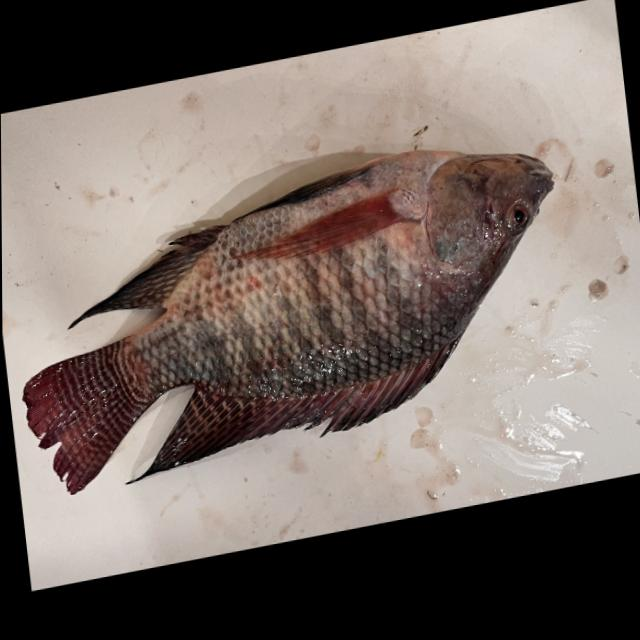Tilapia: (3, 121, 579, 504)
